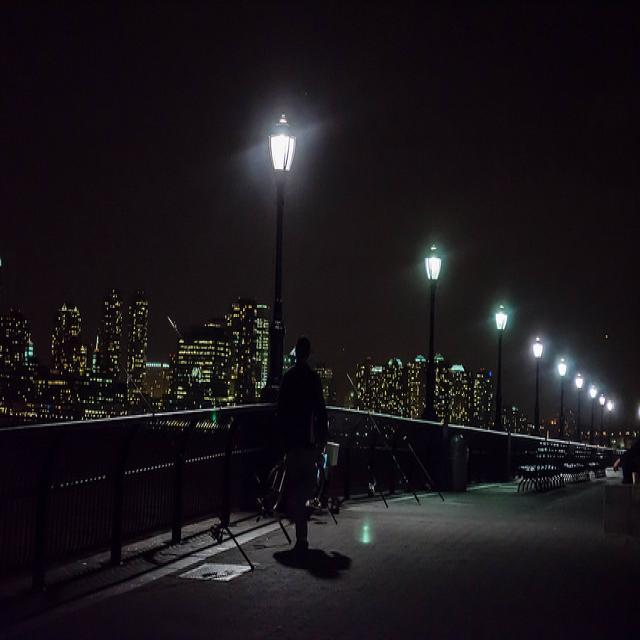People: (270, 326, 334, 565)
chair: (517, 430, 573, 487)
